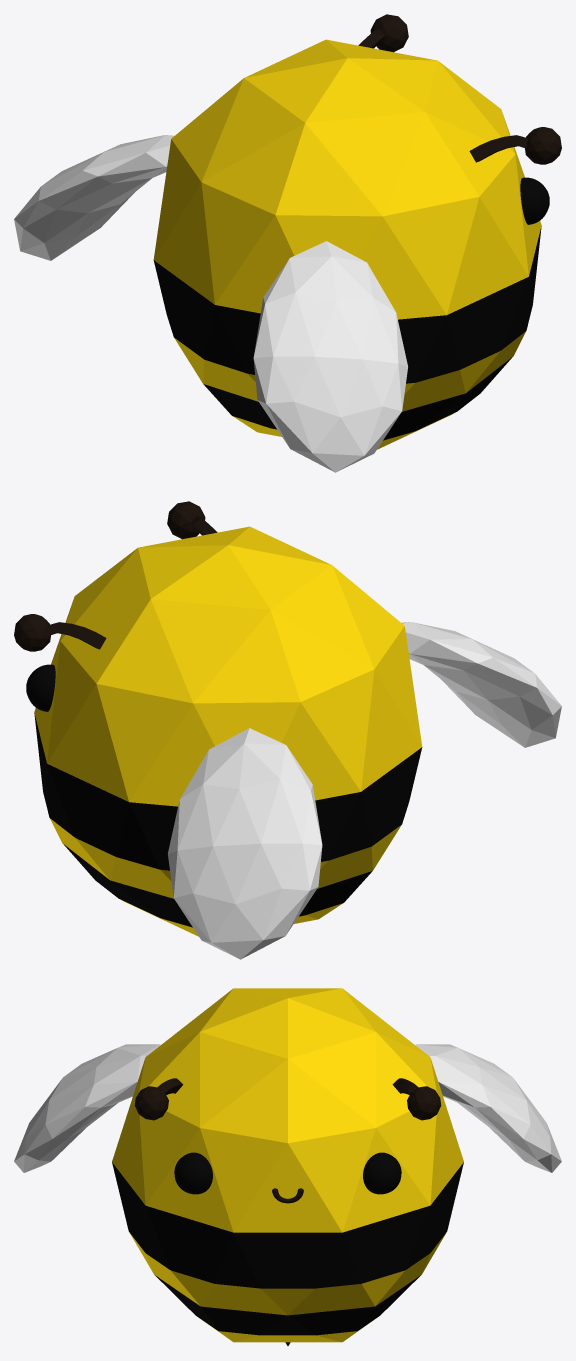
The model's file is AnimBEE.glb.
The picture shows the model from 3 angles, top to bottom: view 1: azimuth 30°, elevation 25°; view 2: azimuth 150°, elevation 25°; view 3: azimuth 270°, elevation 25°; orthographic projection. The views are drawn at different scales.
Visible parts, largest first — view 1: Body, Wing B, Wing A, Anten, Eyes; view 2: Body, Wing A, Wing B, Anten, Eyes; view 3: Body, Wing A, Wing B, Eyes, Anten.
Part boxes in pixels (x1,y1,x2,y2): Body: [153, 39, 541, 449]; Wing B: [253, 241, 407, 472]; Wing A: [14, 135, 173, 260]; Anten: [358, 14, 561, 164]; Eyes: [520, 177, 549, 224]; Body: [34, 526, 422, 936]; Wing A: [168, 728, 322, 959]; Wing B: [402, 622, 561, 747]; Anten: [14, 501, 217, 651]; Eyes: [26, 664, 55, 711]; Body: [112, 988, 463, 1342]; Wing A: [415, 1044, 561, 1172]; Wing B: [14, 1044, 160, 1172]; Eyes: [174, 1152, 401, 1194]; Anten: [134, 1078, 441, 1120].
Bounding box in the file's own units: 2.81 × 2.84 × 4.05.
